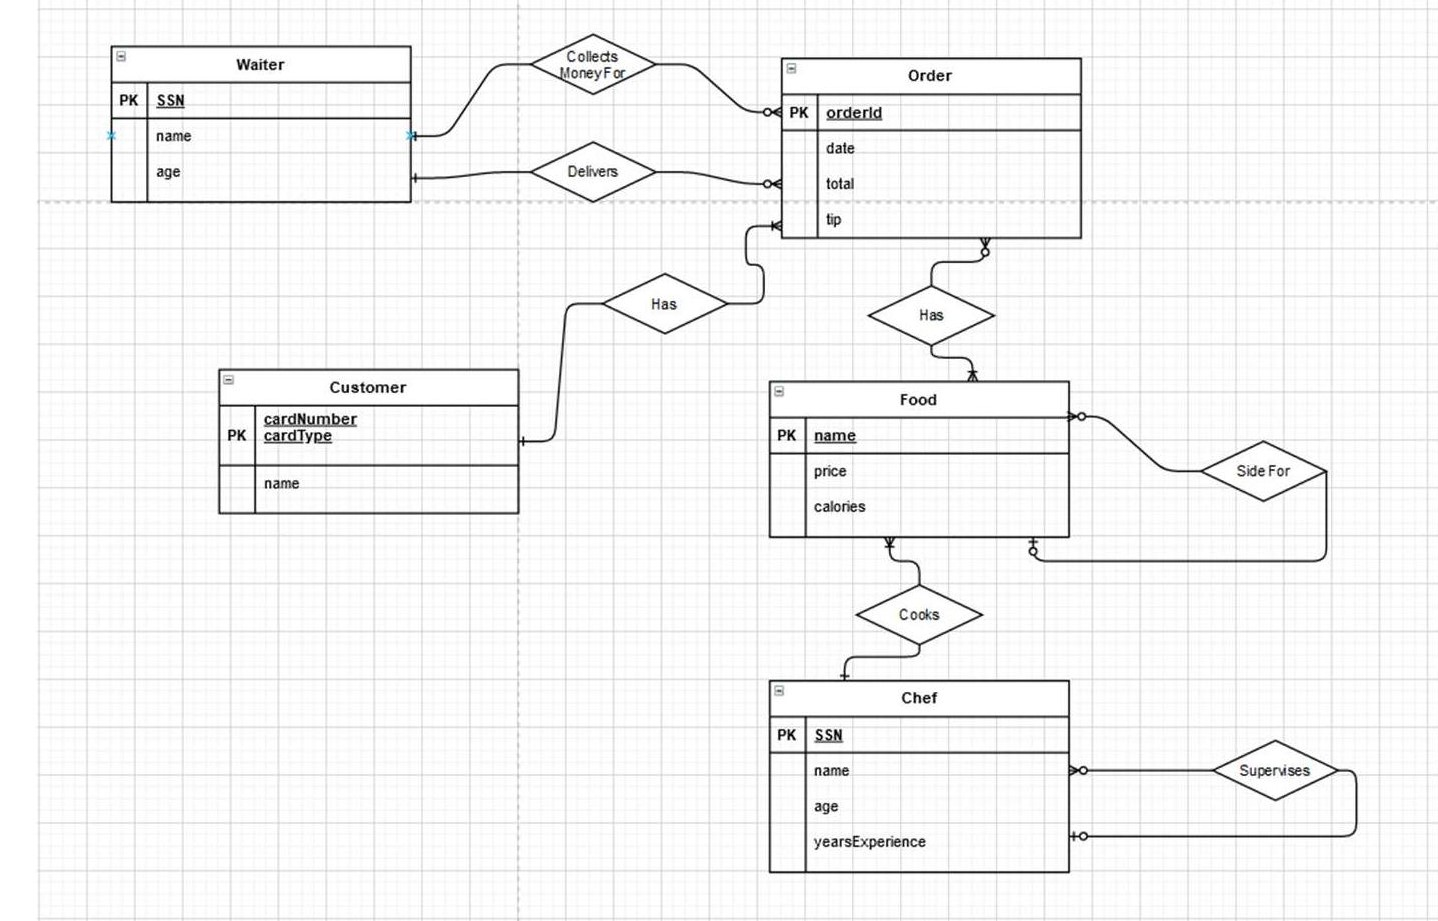Entity: (766, 679, 1069, 872), (779, 56, 1082, 241), (764, 378, 1074, 541), (108, 43, 411, 203), (216, 370, 521, 519)
Relationship: (1211, 736, 1344, 806), (851, 582, 990, 643), (527, 32, 659, 96), (600, 271, 729, 335), (531, 139, 655, 206), (1201, 438, 1323, 502), (869, 283, 996, 343)
